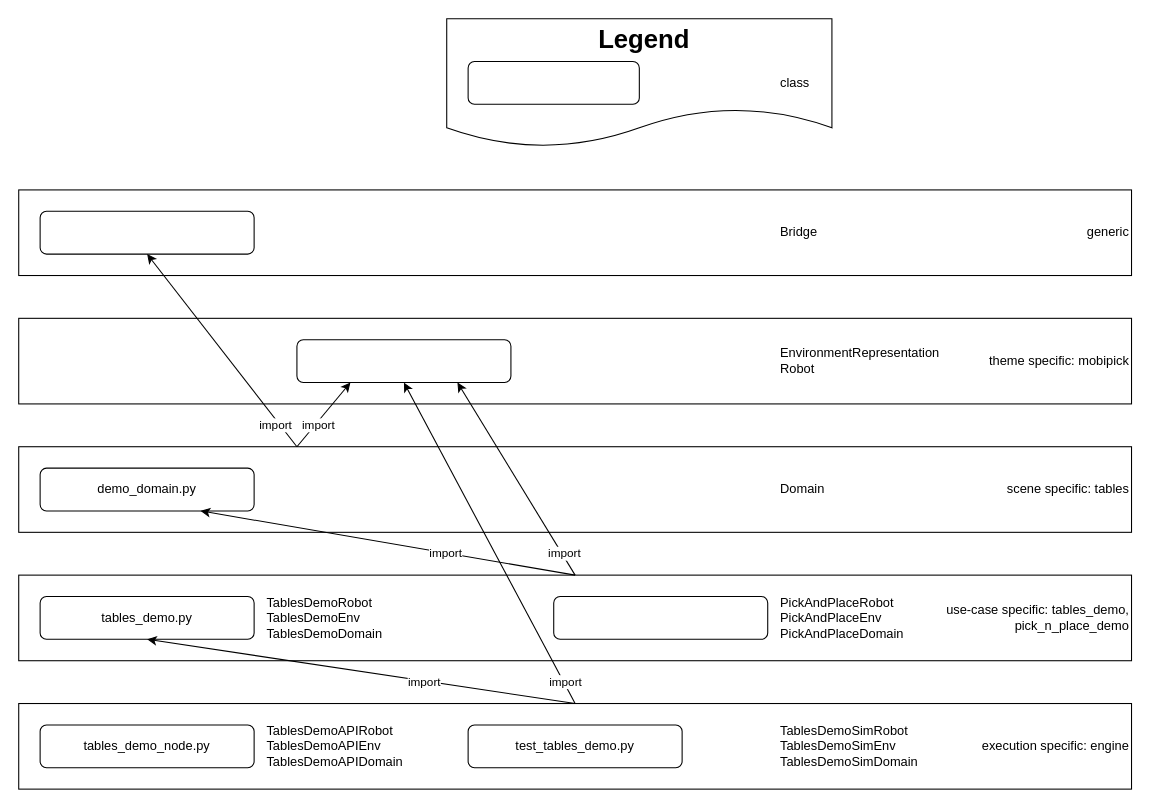
Image size: 1150x808. Some labels were removed from this diagram. Here are the shapes that lost their labels. From the top down, the centre of each, then its label:
At (553,82): "module".
At (146,232): "planning_bridge.py".
At (403,361): "mobipick_components.py".
At (660,617): "pick_n_place_demo_node.py".
